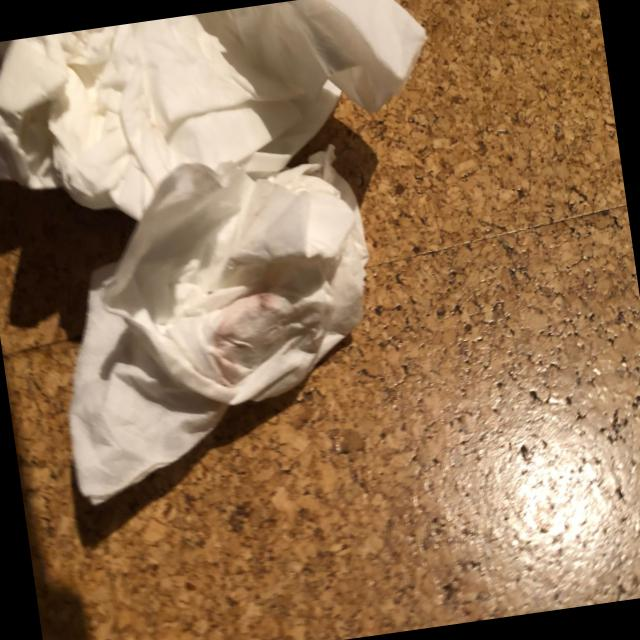organic waste: (27, 145, 400, 518), (0, 0, 454, 246)
